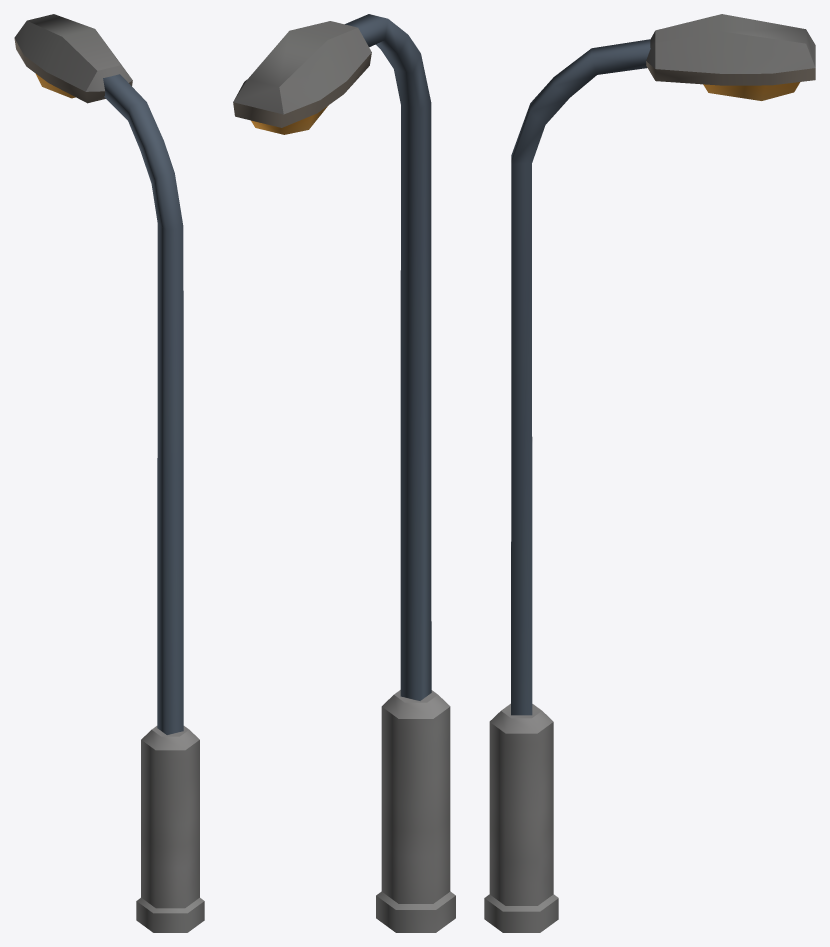
Rendered from Lights_5_A.glb.
3 renders of one model, left to right at view 1: azimuth 30°, elevation 25°; view 2: azimuth 150°, elevation 25°; view 3: azimuth 270°, elevation 25°, orthographic. The views are drawn at different scales.
Parts seen in each view (by area): view 1: Lights_5_A; view 2: Lights_5_A; view 3: Lights_5_A.
Part boxes in pixels (left/top/right/bottom): Lights_5_A: left=14, top=14, right=204, bottom=932; Lights_5_A: left=233, top=14, right=455, bottom=932; Lights_5_A: left=484, top=14, right=815, bottom=932.
Size of the model in its own units: 0.3536 by 4.23 by 1.42.
Materials: 1 (1 with a texture image).
